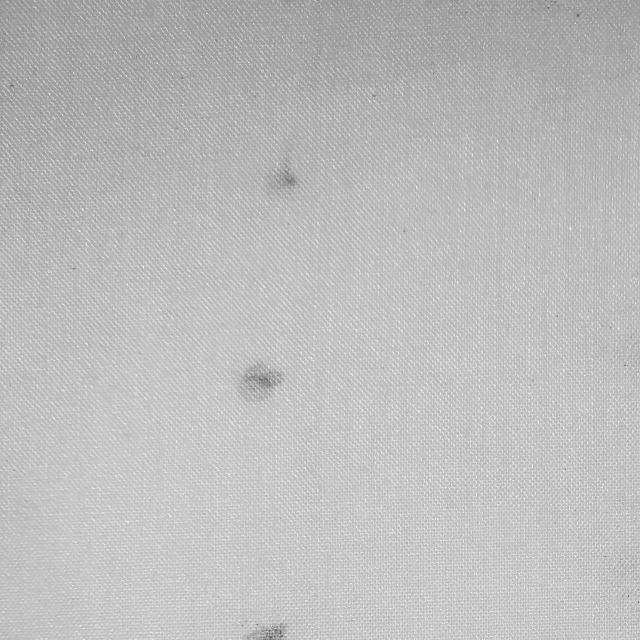Stain: (238, 362, 282, 401), (266, 167, 299, 195), (246, 625, 286, 640)
